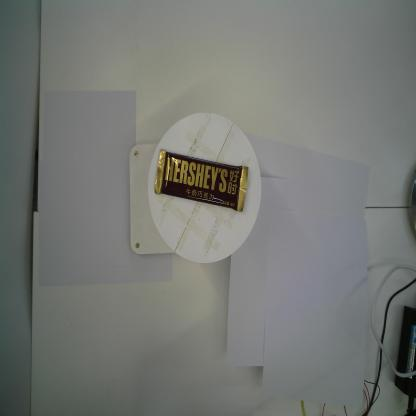Chocolate: (154, 147, 250, 214)
